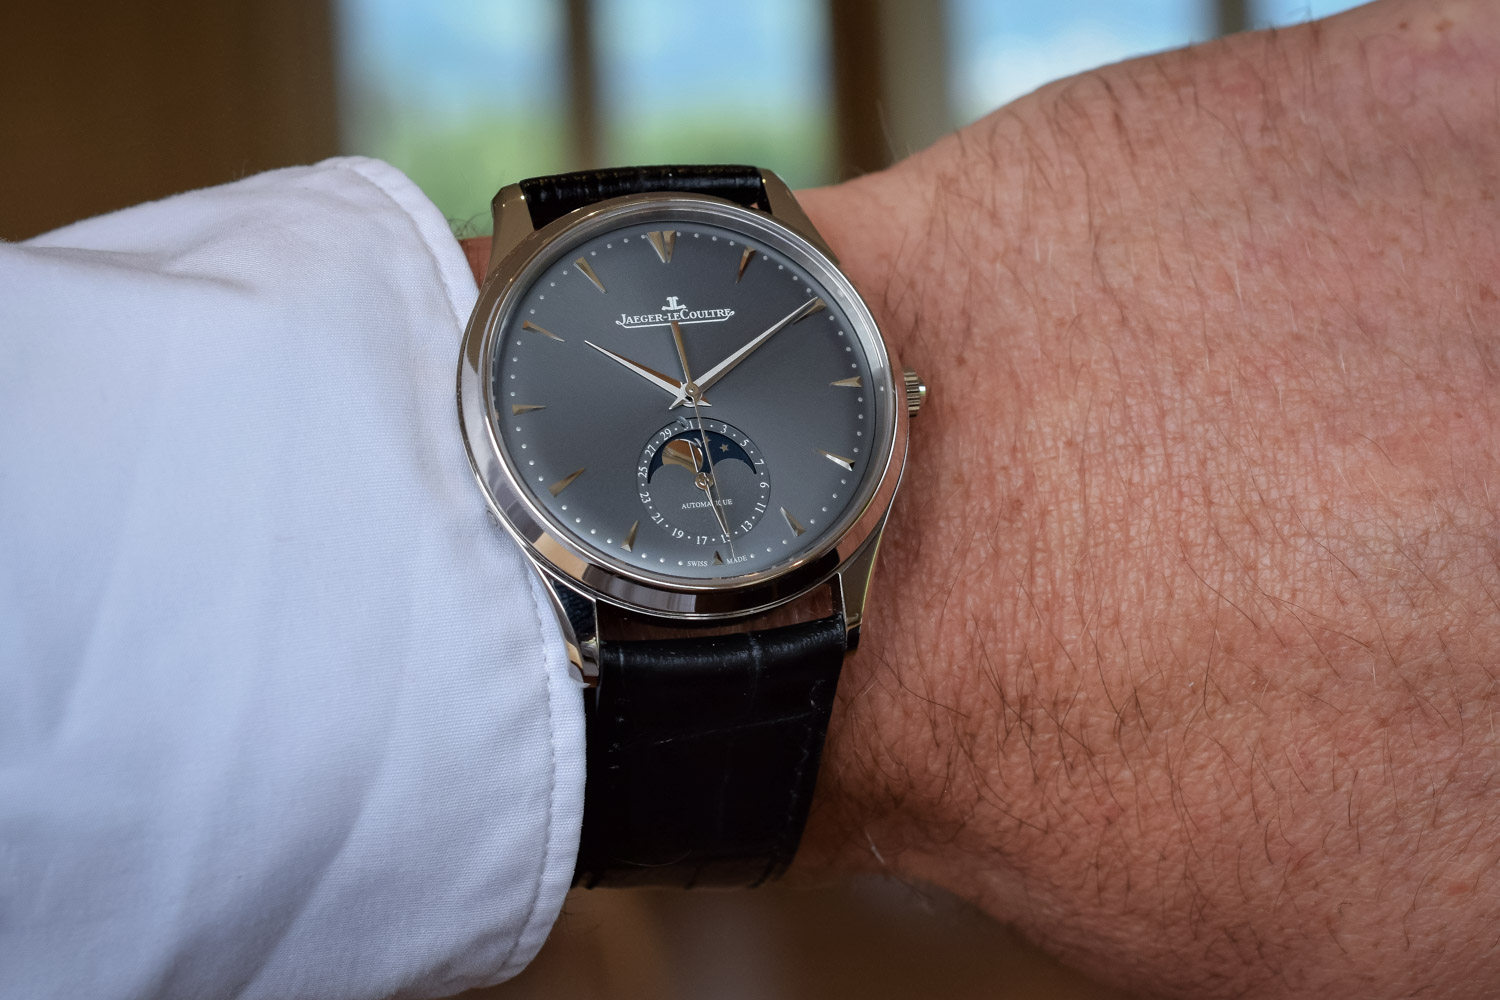clock: (496, 217, 879, 586)
